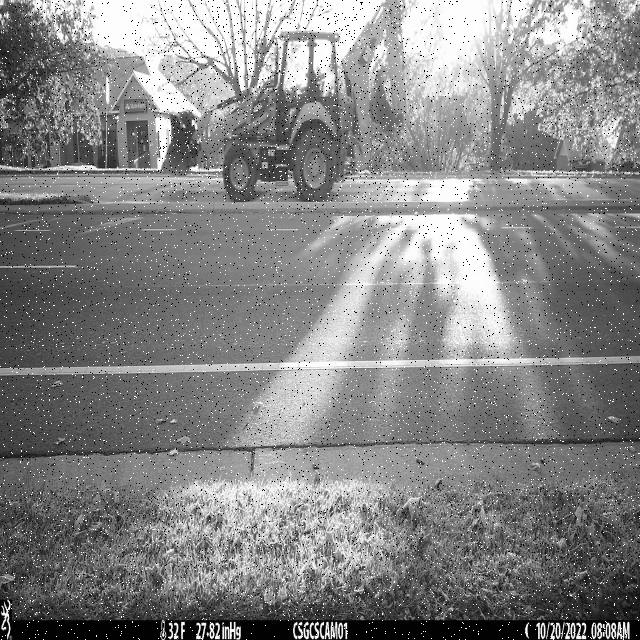Construction Equipment: (160, 0, 406, 202)
